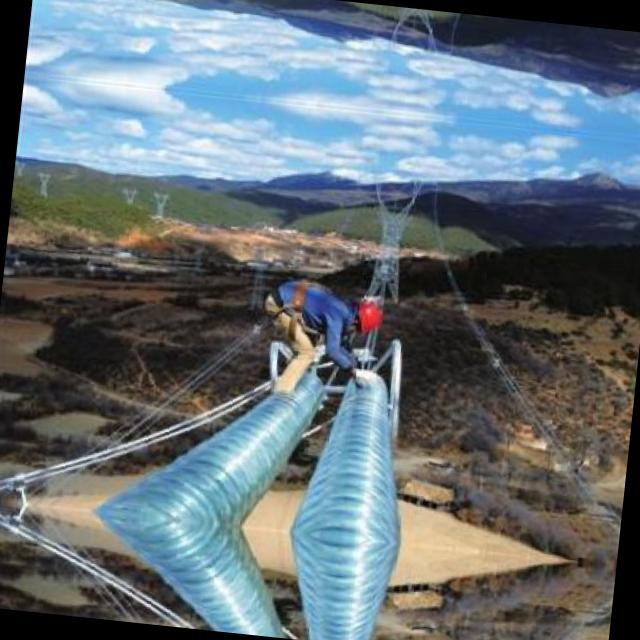helmet: (338, 296, 388, 341)
